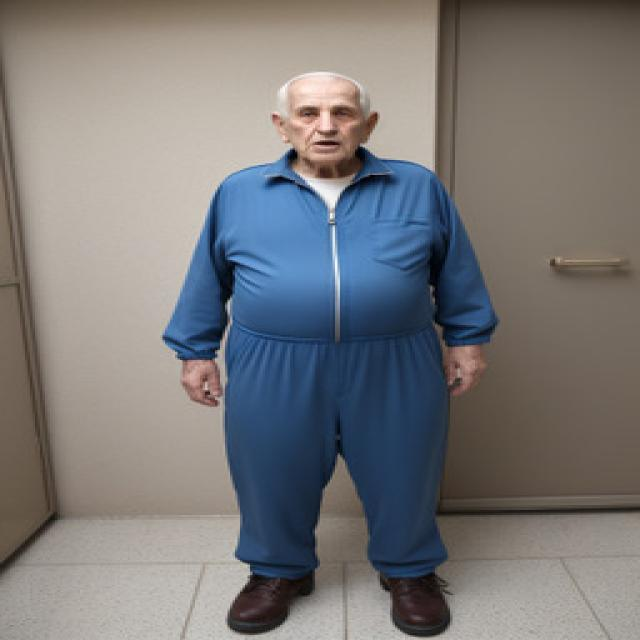Ai human 2: (148, 64, 507, 640)
